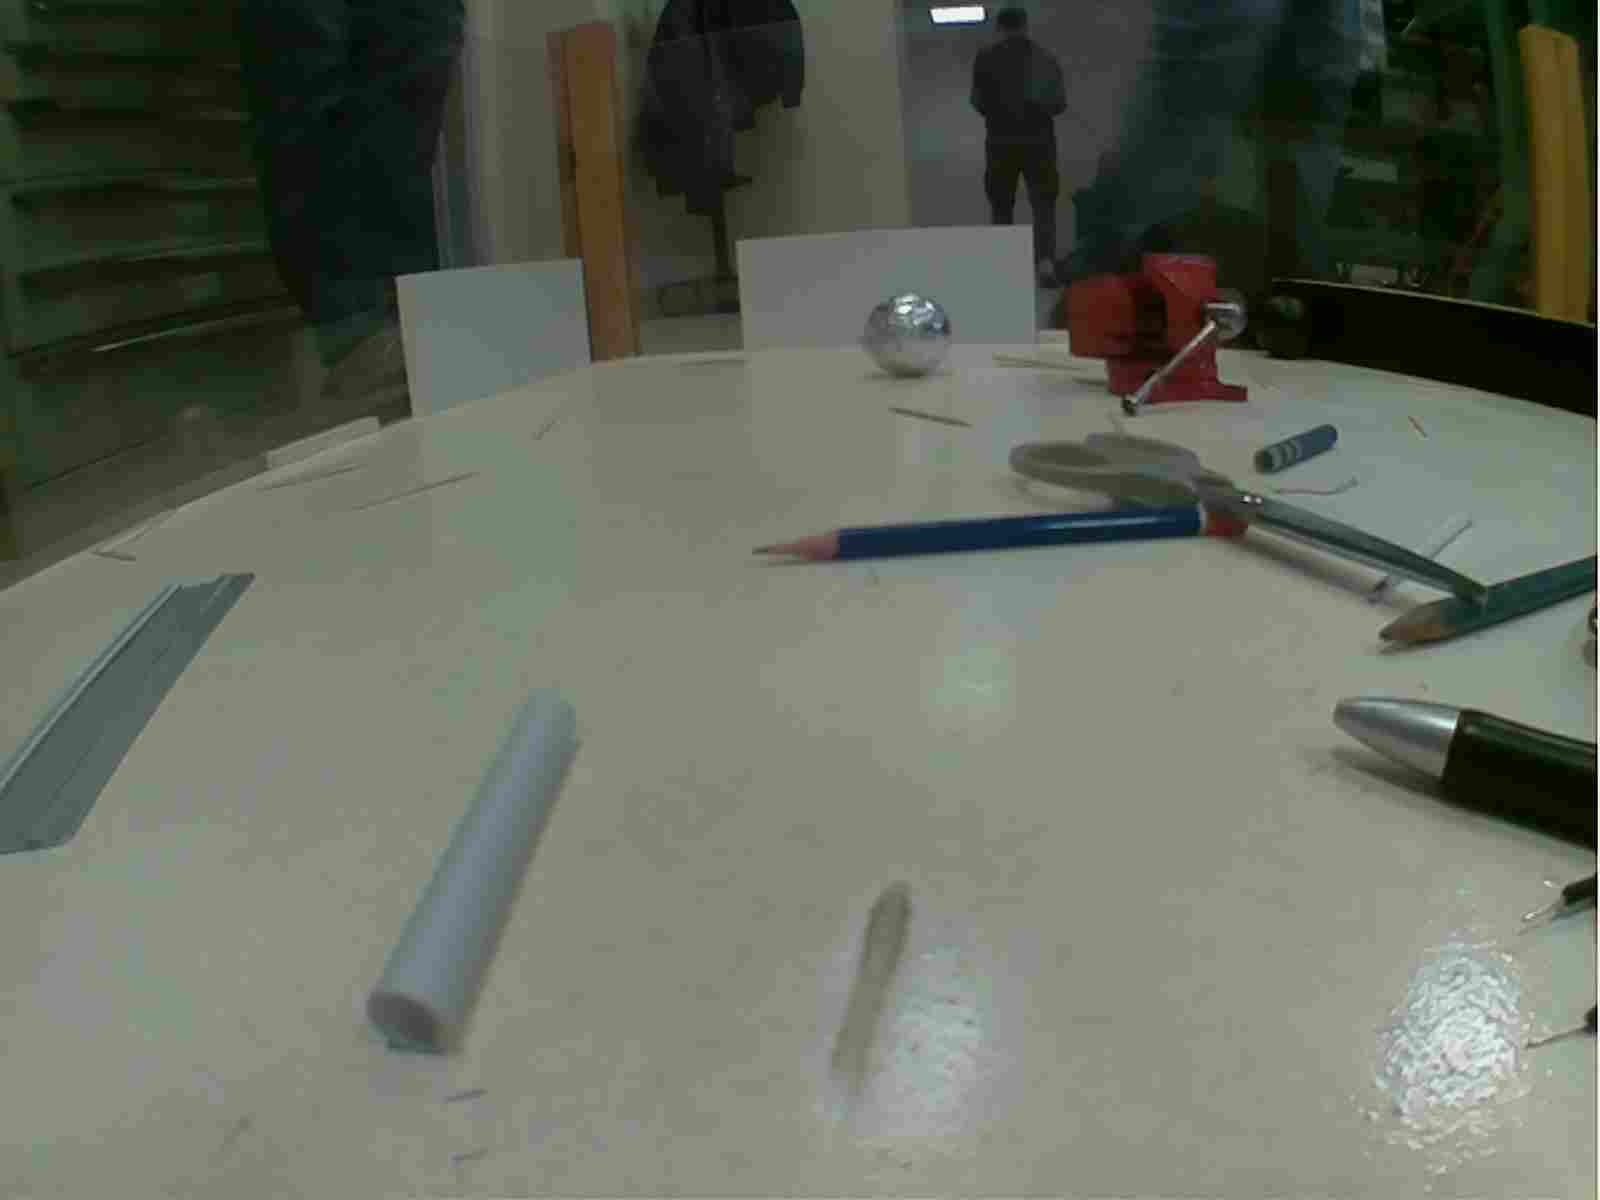bianca: (862, 287, 955, 383)
